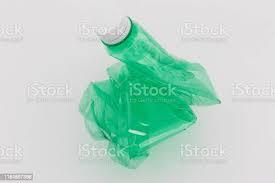plastic: (79, 16, 222, 150)
